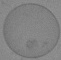small: (26, 39, 37, 49)
